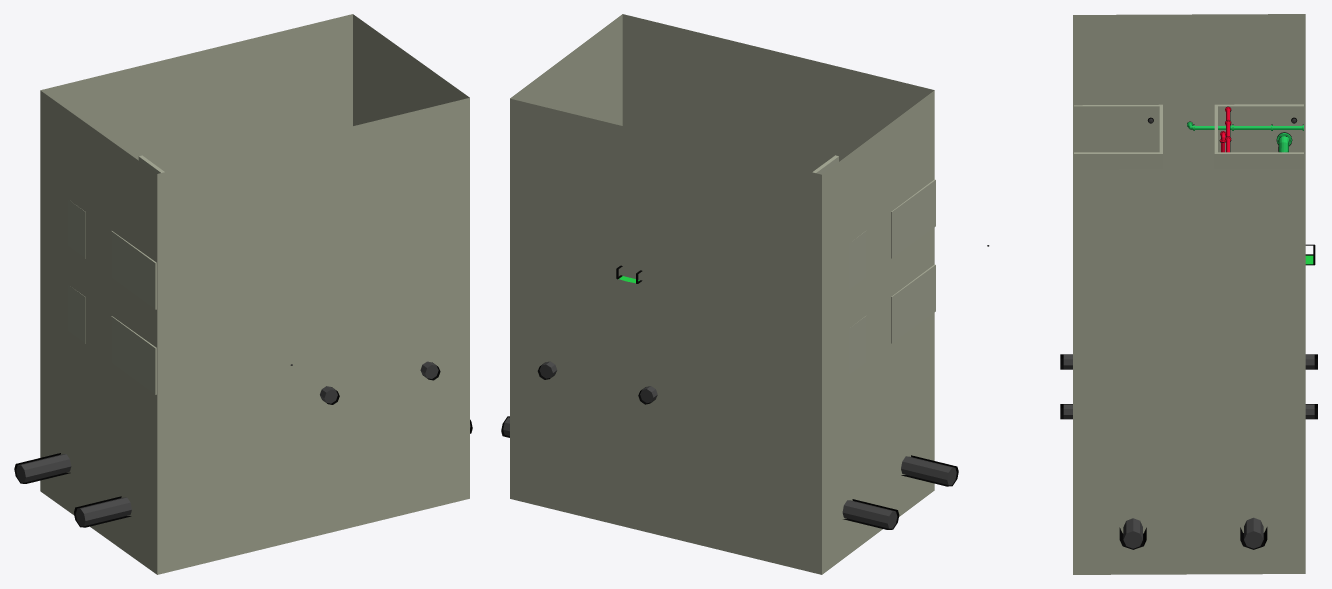
The model's file is Level 2 Ambientado.fbx.
3 views of the same model, side by side, from view 1: azimuth 30°, elevation 25°; view 2: azimuth 150°, elevation 25°; view 3: azimuth 270°, elevation 25° (orthographic).
Parts seen in each view (by area): view 1: Base Reator, Cube.004, Canos; view 2: Base Reator, Cube.004, Canos; view 3: Base Reator, Cube.004, Canos.
Boxes of the visible parts, x1,y1,x2,y2 form: Base Reator: (40, 14, 469, 574); Cube.004: (68, 155, 164, 394); Canos: (14, 361, 472, 527); Base Reator: (510, 14, 934, 574); Cube.004: (812, 155, 935, 374); Canos: (501, 361, 958, 529); Base Reator: (1073, 14, 1305, 574); Cube.004: (1074, 104, 1303, 169); Canos: (1060, 354, 1317, 549).
Size of the model in its own units: 7119 by 7061 by 5218.
